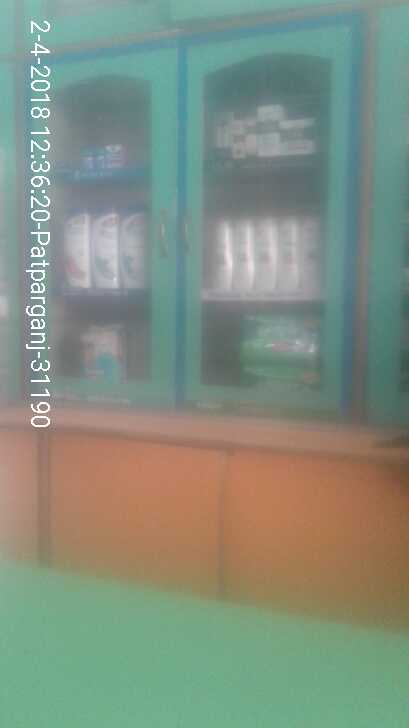vicks: (106, 144, 126, 167), (82, 144, 96, 169), (96, 144, 106, 167)
